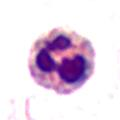eosi: (25, 24, 98, 96)
